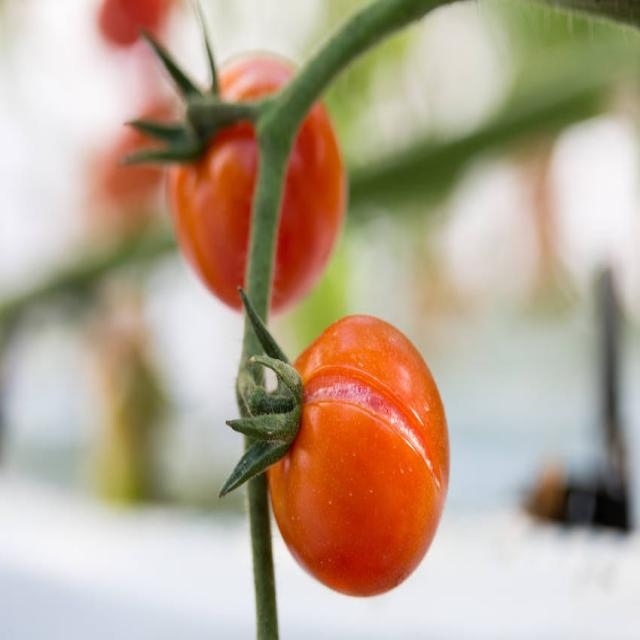damaged: (243, 285, 457, 611)
overripe: (157, 30, 359, 317)
